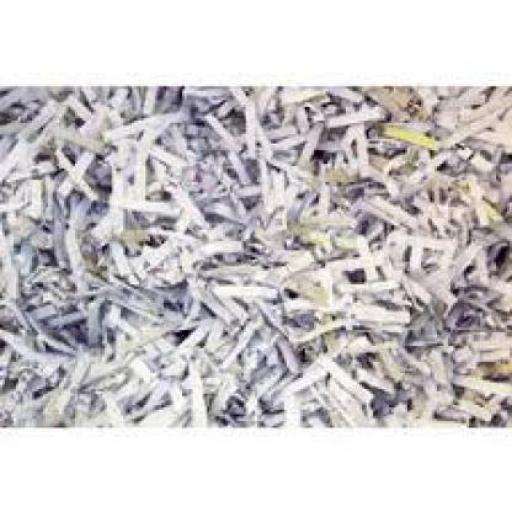paper: (0, 86, 510, 426)
